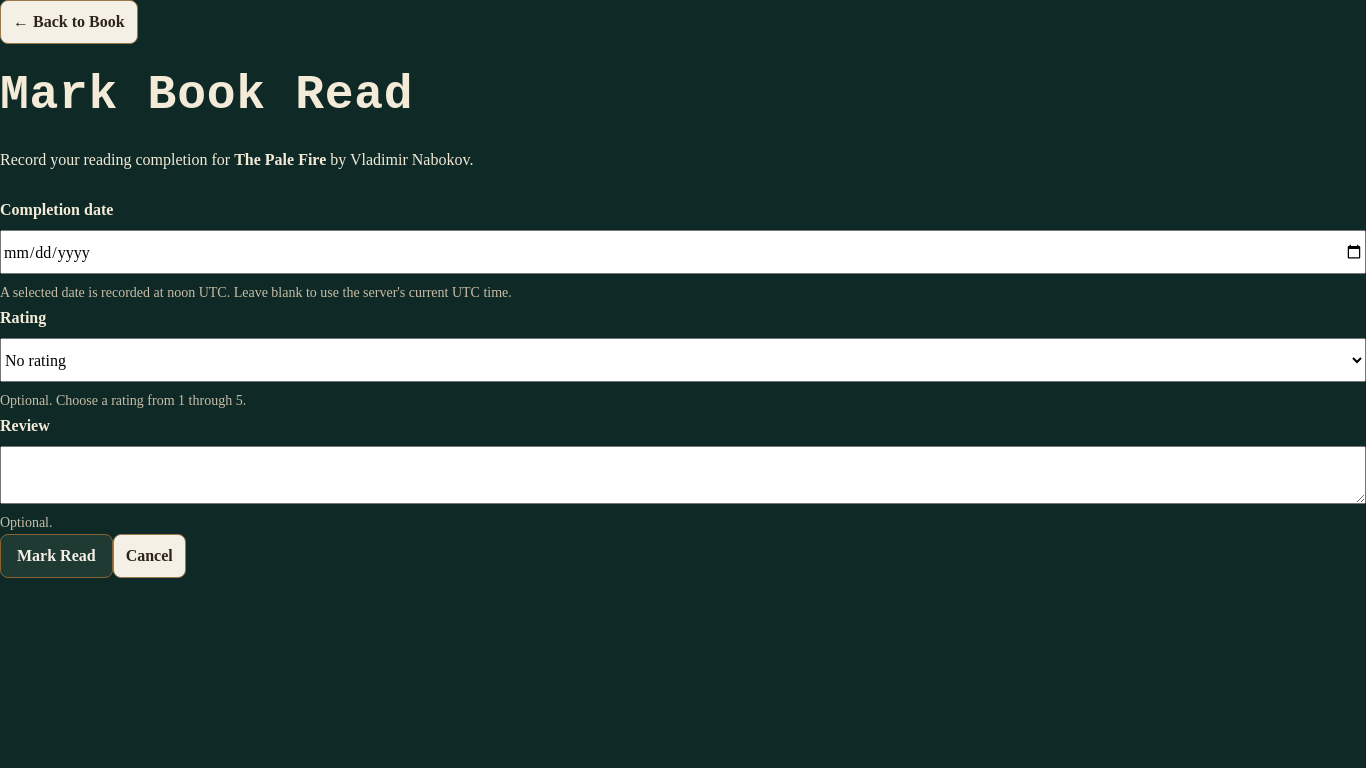
Test: MarkReadPage › refreshes stale state and preserves input after a 404
Type "Preserve this review." into the text box labelled "Review" at {"x": 683, "y": 475}, box [0,446,1365,504]
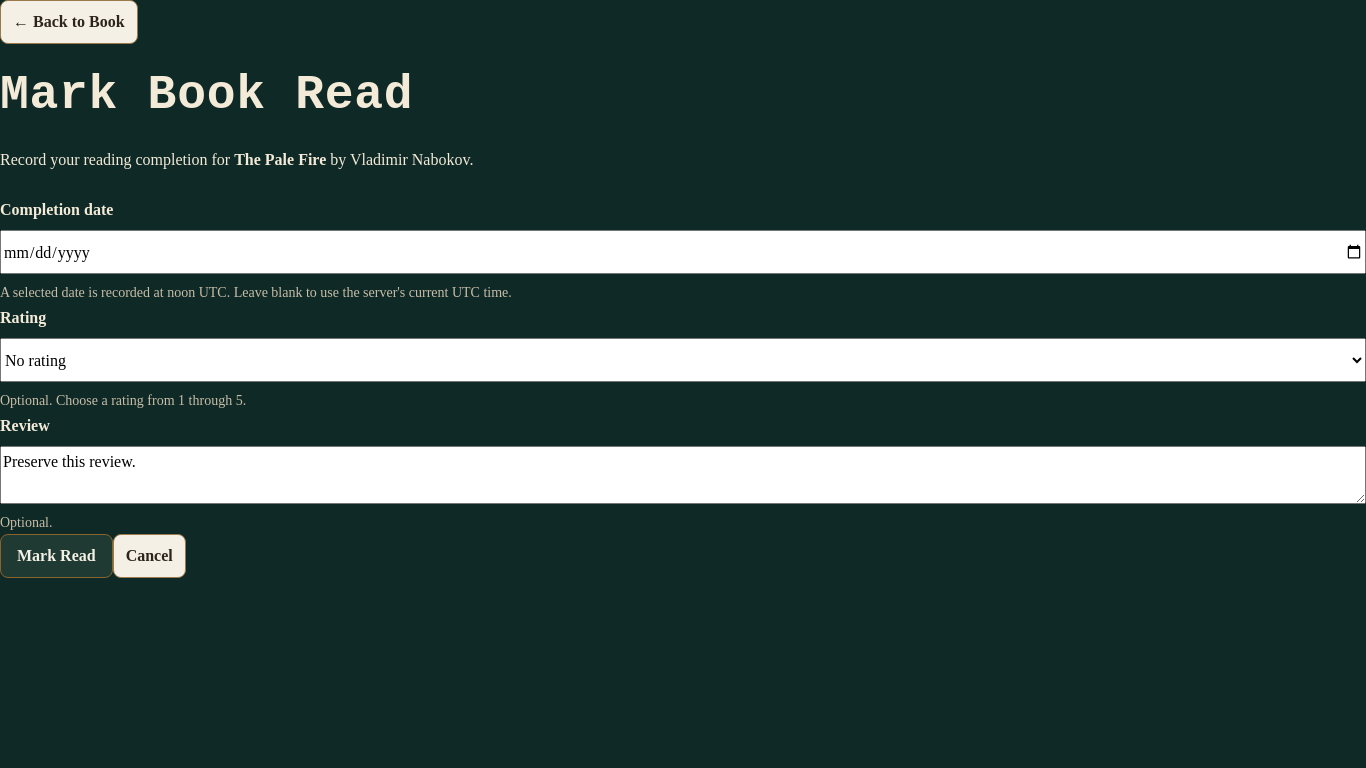
Click the button "Mark Read" at {"x": 56, "y": 556}, box [0,534,113,578]
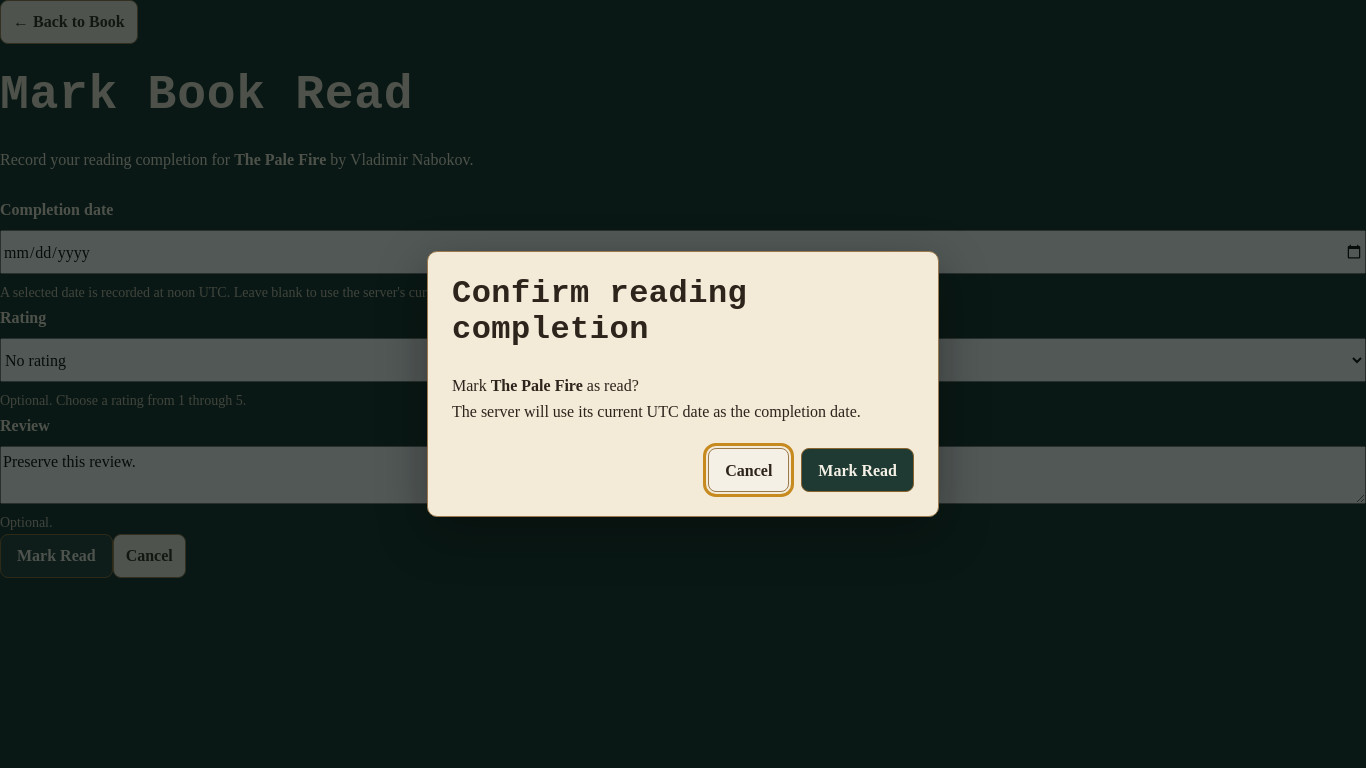
Click the button "Mark Read" at {"x": 858, "y": 470}, box [801,448,914,492]
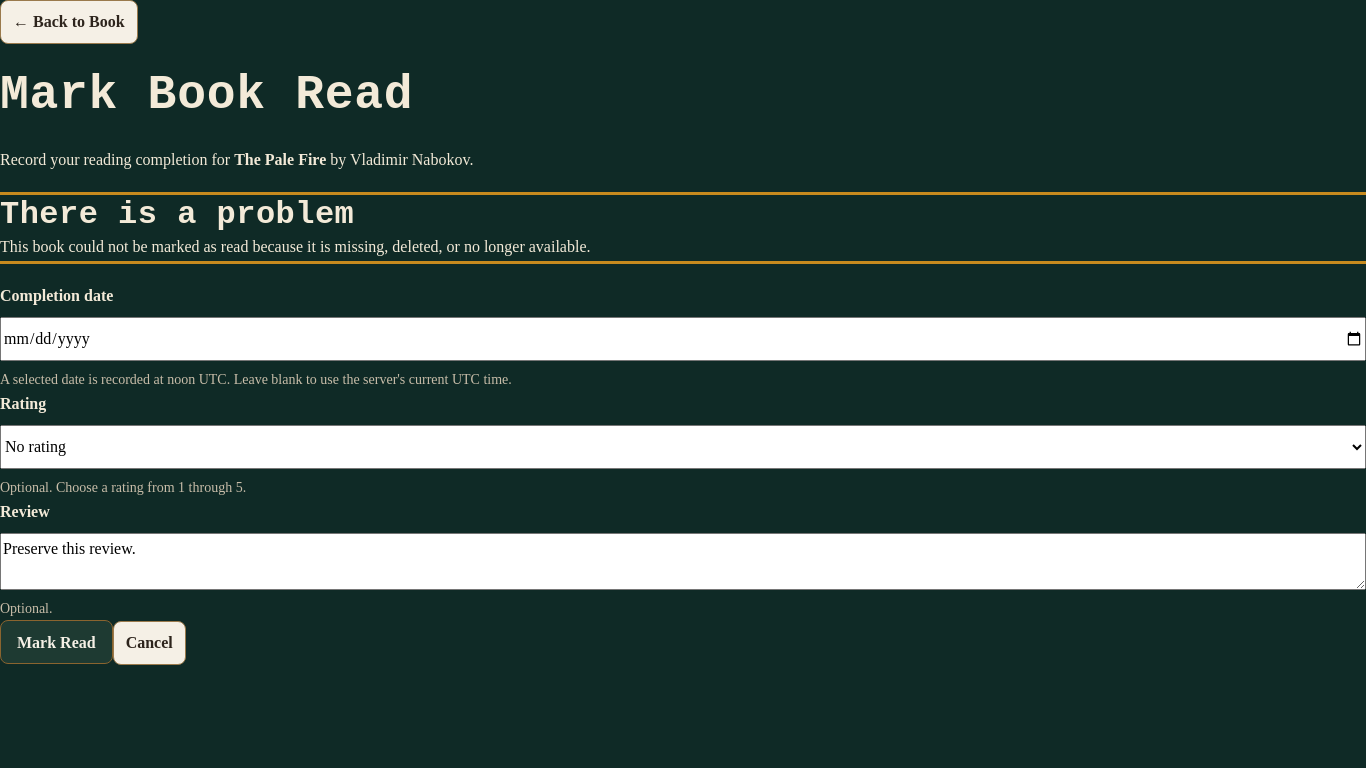
Expected: the message shows "missing, deleted, or no longer available", [0,238,590,255]
